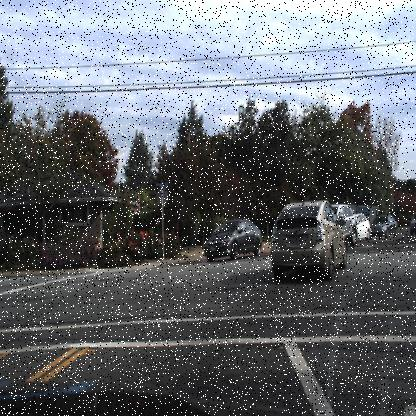car: (270, 203, 352, 282), (203, 216, 263, 263), (334, 203, 357, 249), (369, 215, 399, 238), (408, 212, 416, 236)
